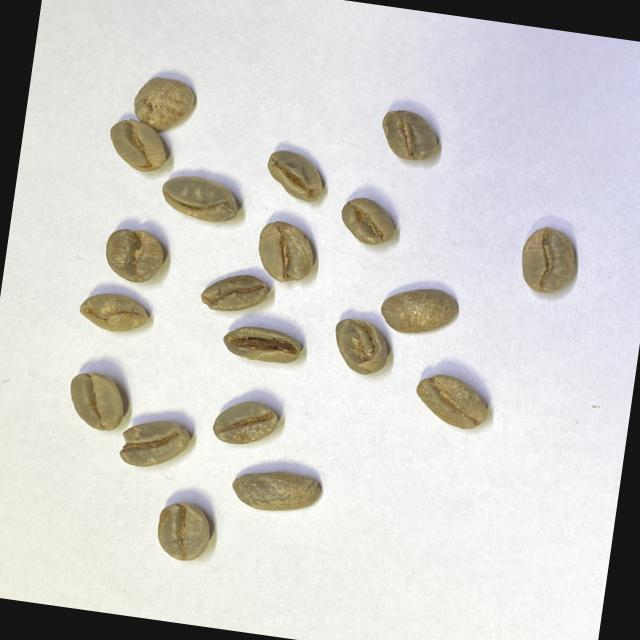bad: (328, 314, 396, 379), (119, 416, 193, 474), (262, 147, 330, 205), (222, 321, 304, 368), (76, 289, 154, 338), (199, 268, 273, 318)
good: (229, 462, 324, 520), (514, 223, 584, 299), (376, 282, 464, 342), (412, 372, 493, 436), (150, 496, 217, 566), (253, 219, 320, 287), (159, 172, 242, 226), (130, 72, 200, 136), (99, 225, 169, 288), (104, 115, 174, 176), (64, 369, 128, 435), (376, 106, 442, 166), (212, 396, 282, 452), (338, 194, 400, 250)
